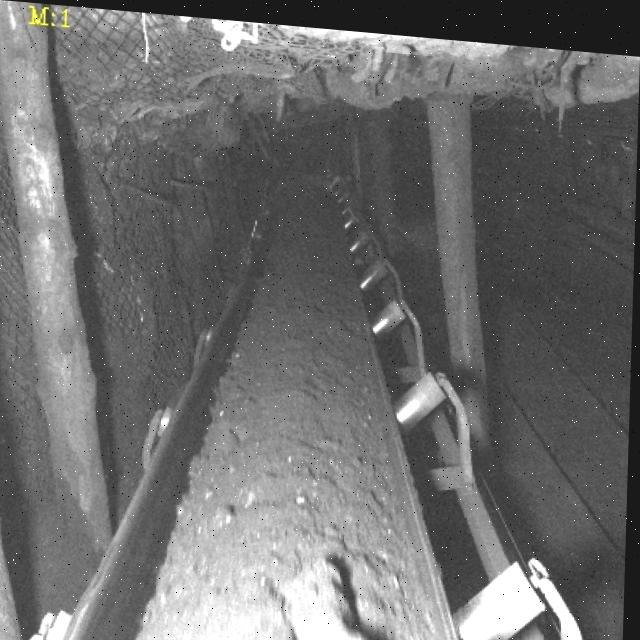large_sized_coal: (282, 538, 388, 640)
